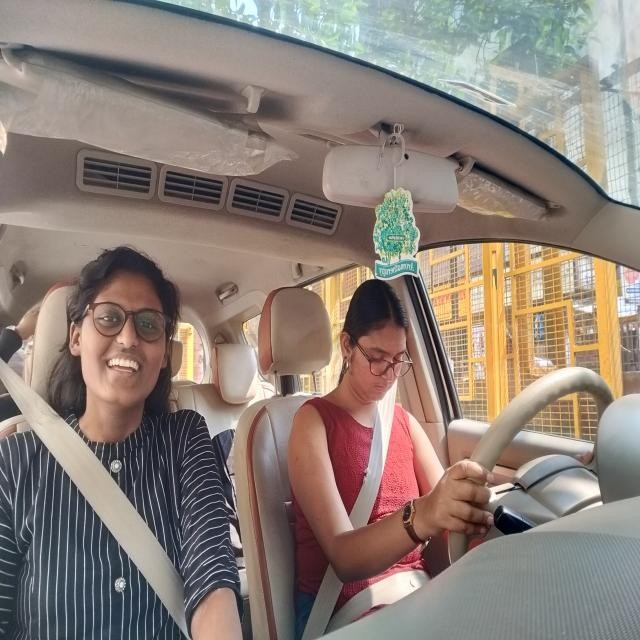drowsy: (337, 266, 419, 423)
person: (59, 220, 184, 450)
